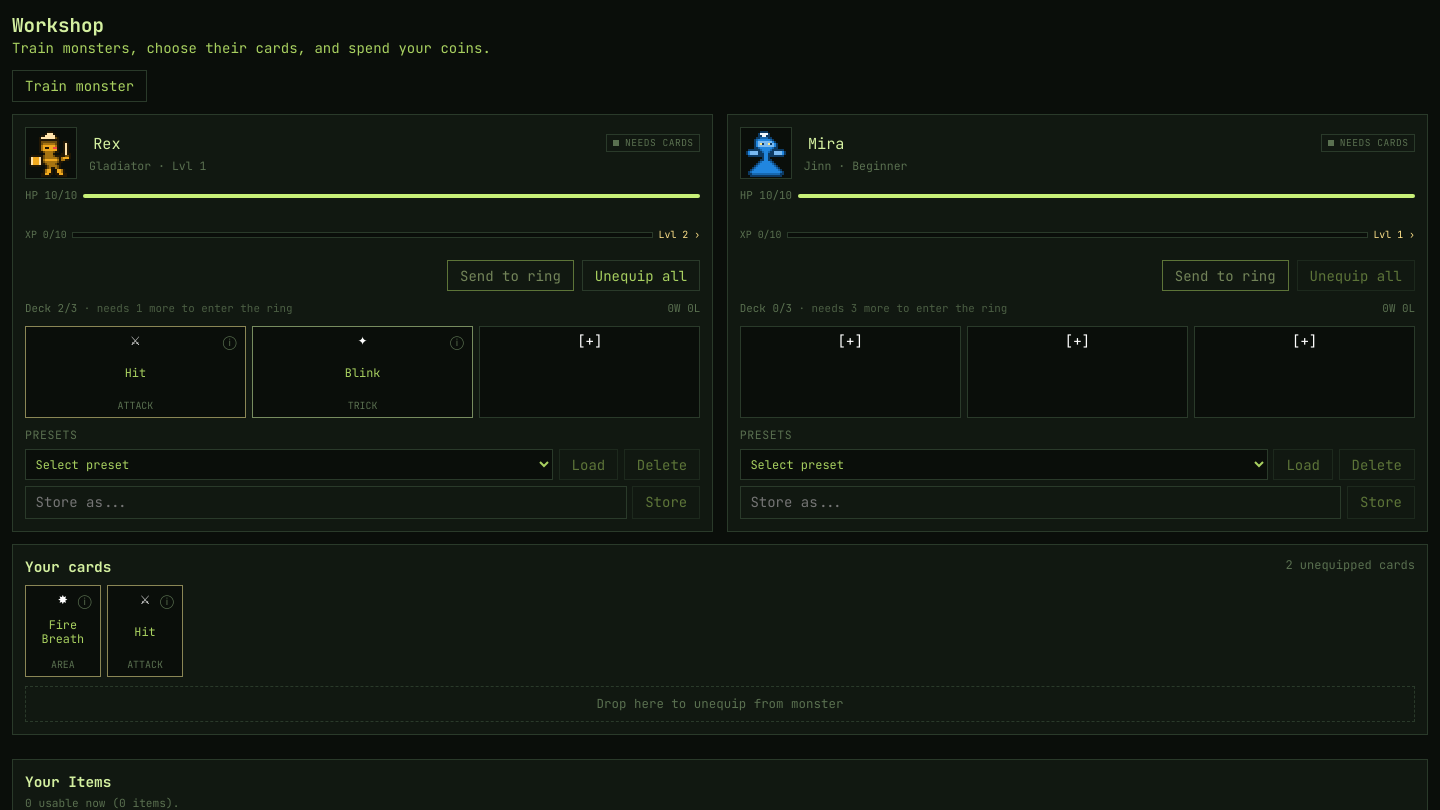
Scenario: card details sheet in the Workshop › shows "Price: free" and the stats line, and says the monster can use a card it can
Click the button named "What Hit does": (230, 342) [214,326,246,358]
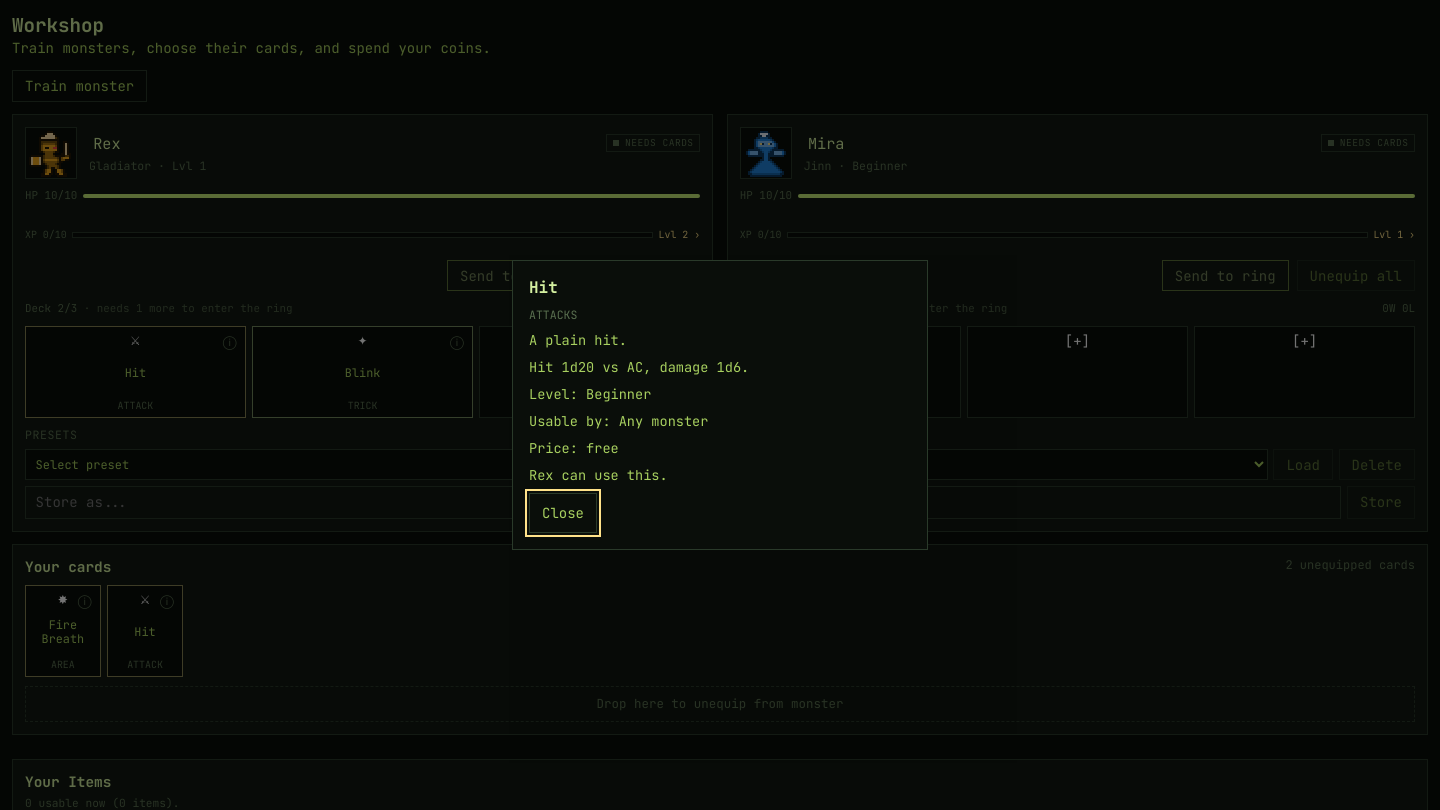
Check: the text "Price: free" is shown, box [529,439,619,457]
Check: the text "Hit 1d20 vs AC, damage 1d6." is shown, box [529,358,749,376]
Check: the text "Usable by: Any monster" is shown, box [529,412,708,430]
